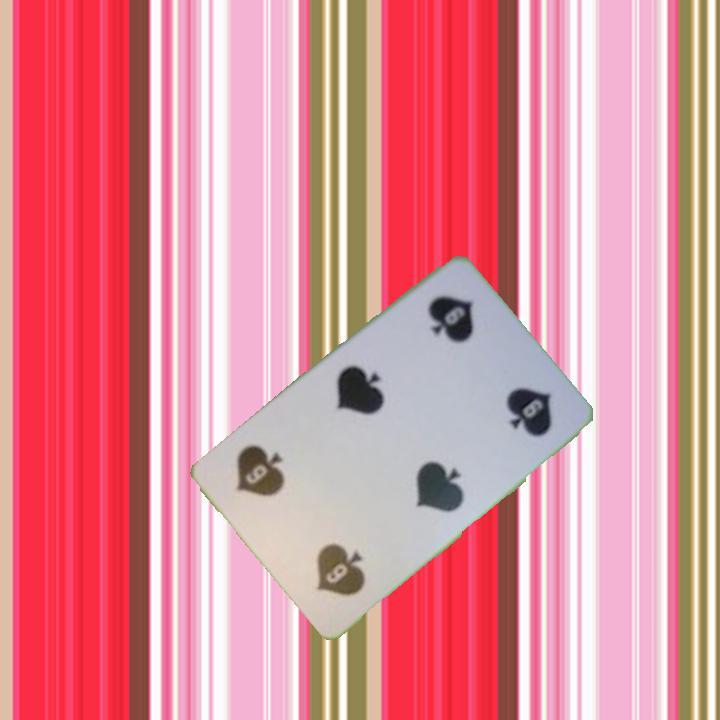s_6.png: (390, 269, 518, 398), (269, 492, 396, 621)
